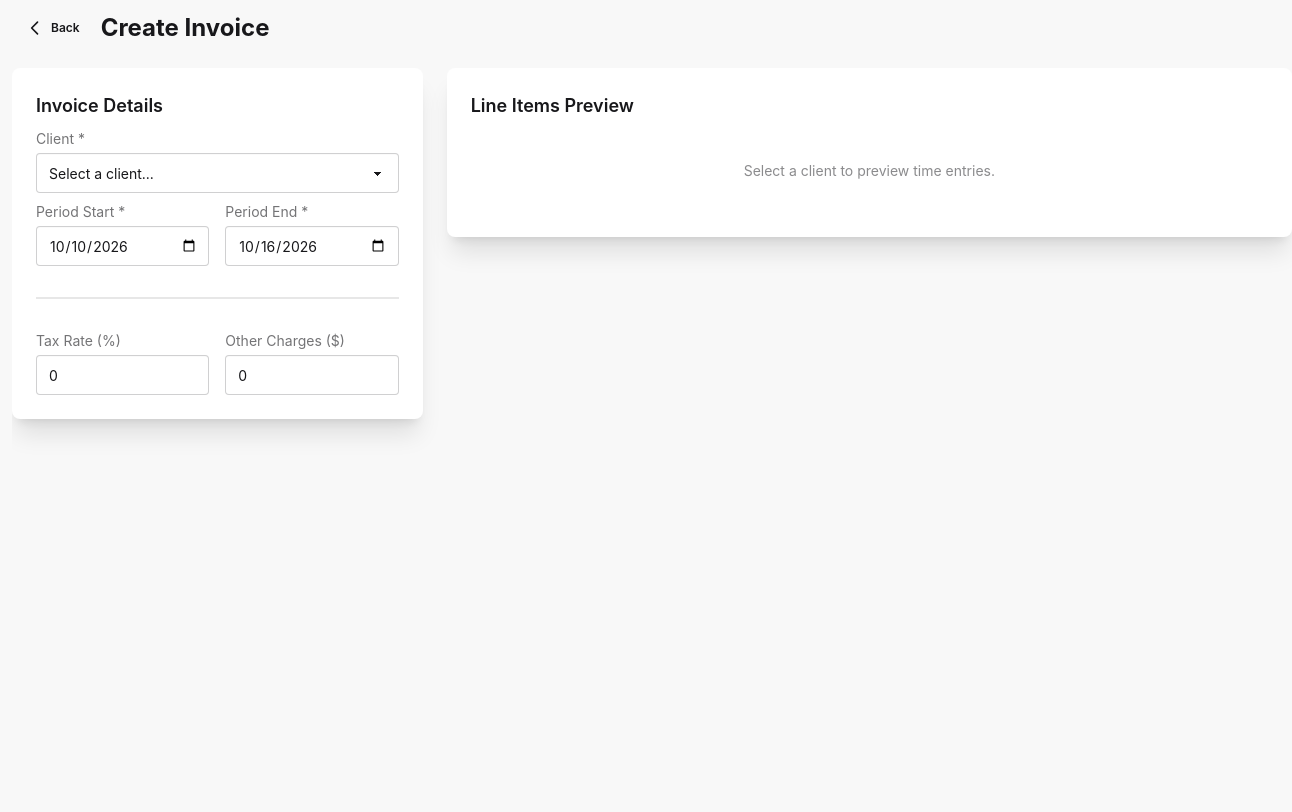
Test: CreateInvoice - empty preview › shows 'no completed time entries' when preview has no items
Select "Acme Corp ($150.00/hr)" in the dropdown at (217, 173), box [36,153,399,193]
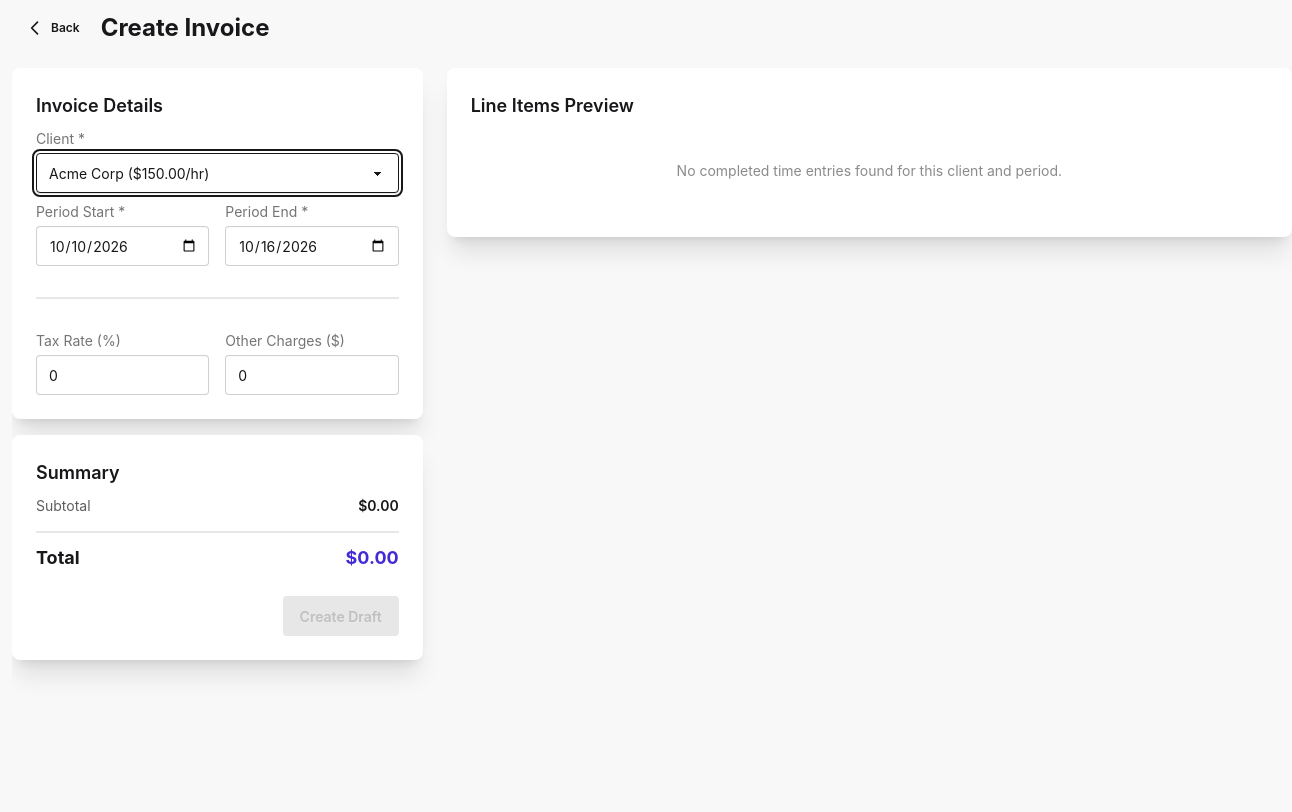
expect the text "No completed time entries found for this client and period." is shown: met, box [677,162,1062,179]
